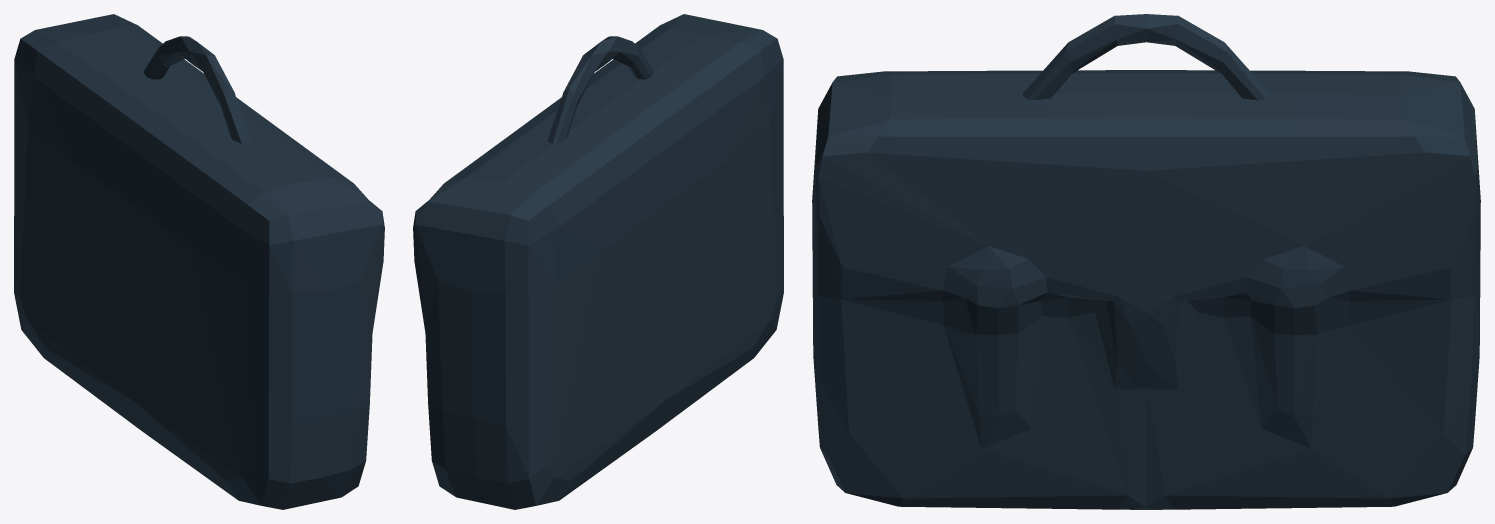
The model's file is PedestrianGirl_Bag.fbx.
3 renders of one model, left to right at view 1: azimuth 30°, elevation 25°; view 2: azimuth 150°, elevation 25°; view 3: azimuth 270°, elevation 25°, orthographic. The views are drawn at different scales.
Parts seen in each view (by area): view 1: PedestrianGirl_Bag; view 2: PedestrianGirl_Bag; view 3: PedestrianGirl_Bag.
Part boxes in pixels (x1,y1,x2,y2): PedestrianGirl_Bag: [14, 14, 384, 509]; PedestrianGirl_Bag: [413, 14, 783, 509]; PedestrianGirl_Bag: [812, 14, 1480, 509].
Bounding box in the file's own units: 9.16 × 25.56 × 32.32.
